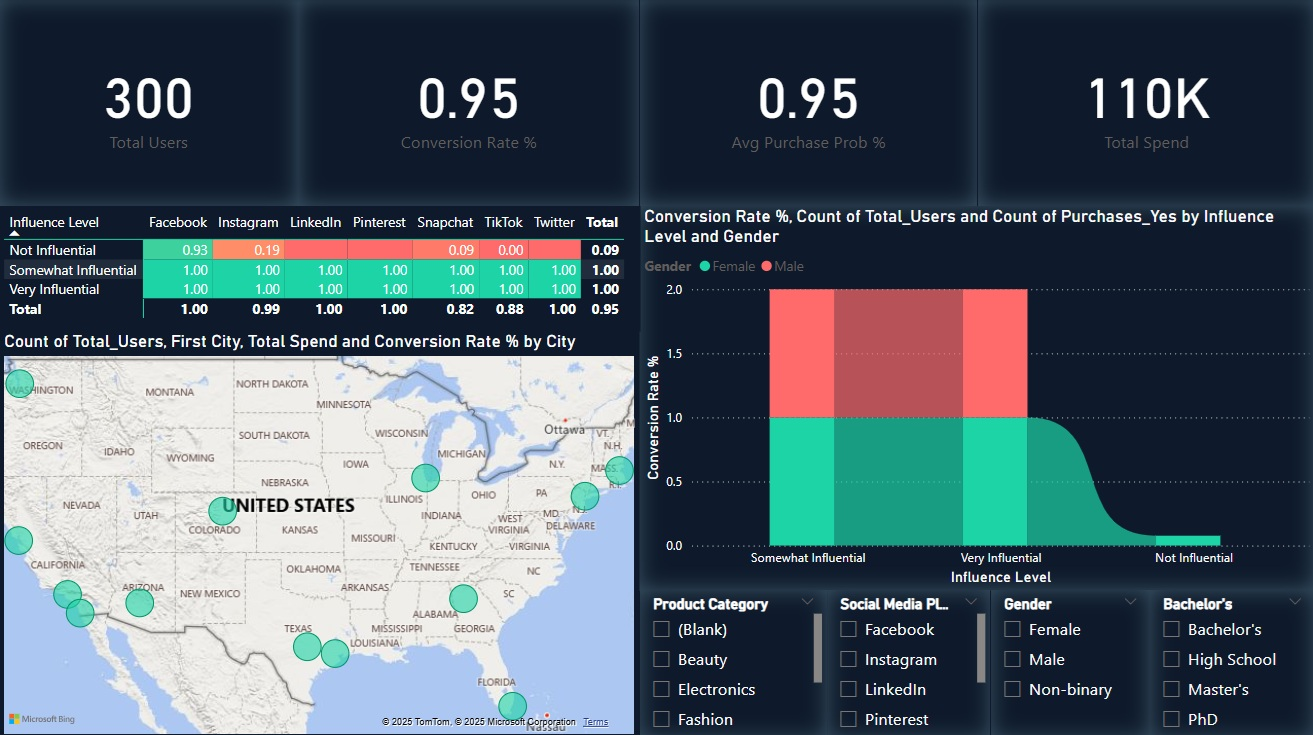

The dashboard page shown, as its layout file describes it:
{"tool":"powerbi","page":{"name":"National Pulse","canvas":[1280,720],"ordinal":0},"visuals":[{"type":"card","fields":{"Values":["Row_Level.Total Users"]},"box":[0,0,291.3,201.4],"z":0},{"type":"card","fields":{"Values":["Row_Level.Conversion Rate %"]},"box":[291.3,0,332.5,201.4],"z":1000},{"type":"card","fields":{"Values":["Row_Level.Avg Purchase Prob %"]},"box":[623.8,0,328.1,201.4],"z":2000},{"type":"card","fields":{"Values":["Row_Level.Total Spend"]},"box":[951.9,0,328.1,201.4],"z":3000},{"type":"ribbonChart","fields":{"Category":["Row_Level.Influence Level"],"Y":["Row_Level.Conversion Rate %"],"Series":["Row_Level.Gender"]},"box":[622.7,201.4,657.3,373.6],"z":4000},{"type":"slicer","fields":{"Values":["Row_Level.Gender"]},"box":[964.9,575,154.9,145.1],"z":5000},{"type":"slicer","fields":{"Values":["Row_Level.Education Level"]},"box":[1119.7,575,160.3,145.1],"z":6000},{"type":"slicer","fields":{"Values":["Row_Level.Social Media Platforms"]},"box":[805.7,575,159.2,145.1],"z":7000},{"type":"slicer","fields":{"Values":["Row_Level.Product Category"]},"box":[623.8,575,181.9,145.1],"z":8000},{"type":"pivotTable","fields":{"Rows":["Row_Level.Influence Level"],"Columns":["Row_Level.Social Media Platforms"],"Values":["Avg(Row_Level.purchase_prob)"]},"box":[0,200.9,623.8,121.6],"z":9000},{"type":"map","fields":{"Category":["Row_Level.City"],"Size":["CountNonNull(City_Summary.Total_Users)"]},"box":[0,322.5,622.7,397.3],"z":10000}]}

Visuals, with their boxes in screenshot pixels (x1, y1, x2, y2), scaled from the page's 1280x720 canvas onto the 1313x735 screenshot:
card - Row_Level.Total Users: BBox(0, 0, 299, 206)
card - Row_Level.Conversion Rate %: BBox(299, 0, 640, 206)
card - Row_Level.Avg Purchase Prob %: BBox(640, 0, 976, 206)
card - Row_Level.Total Spend: BBox(976, 0, 1312, 206)
ribbonChart - Row_Level.Influence Level x Row_Level.Conversion Rate %: BBox(639, 206, 1312, 587)
slicer - Row_Level.Gender: BBox(990, 587, 1149, 734)
slicer - Row_Level.Education Level: BBox(1149, 587, 1312, 734)
slicer - Row_Level.Social Media Platforms: BBox(826, 587, 990, 734)
slicer - Row_Level.Product Category: BBox(640, 587, 826, 734)
pivotTable - Row_Level.Influence Level x Row_Level.Social Media Platforms: BBox(0, 205, 640, 329)
map - Row_Level.City x CountNonNull(City_Summary.Total_Users): BBox(0, 329, 639, 734)
